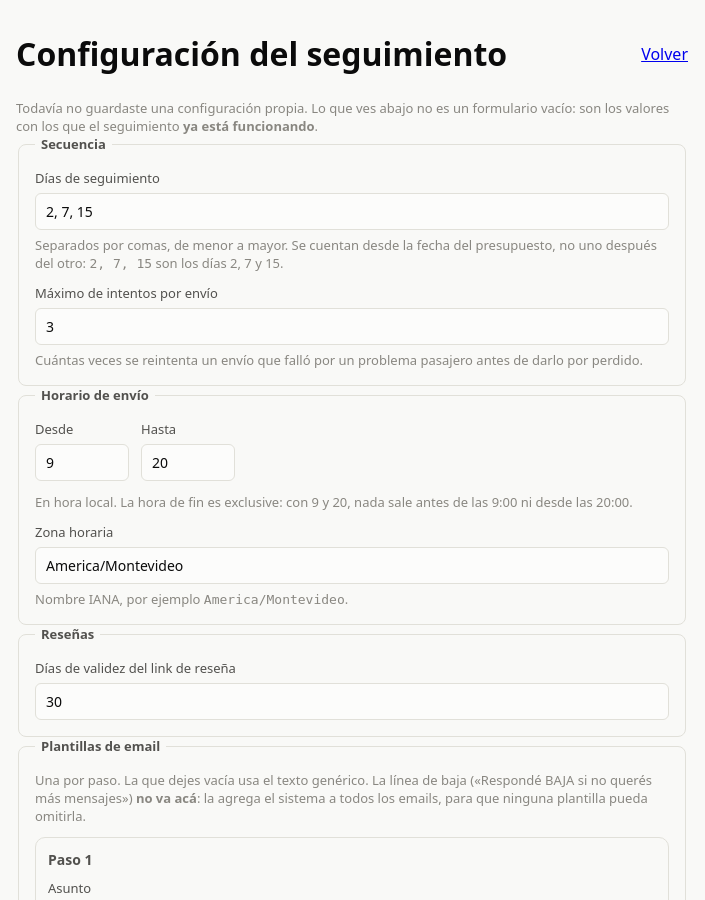
Test: ConfigSeguimientoPage › guarda y manda al backend lo que se editó
Replace the text in the field labelled "Días de seguimiento" with "1, 4" at (352, 212), box [35, 193, 669, 230]
(page scrolled)
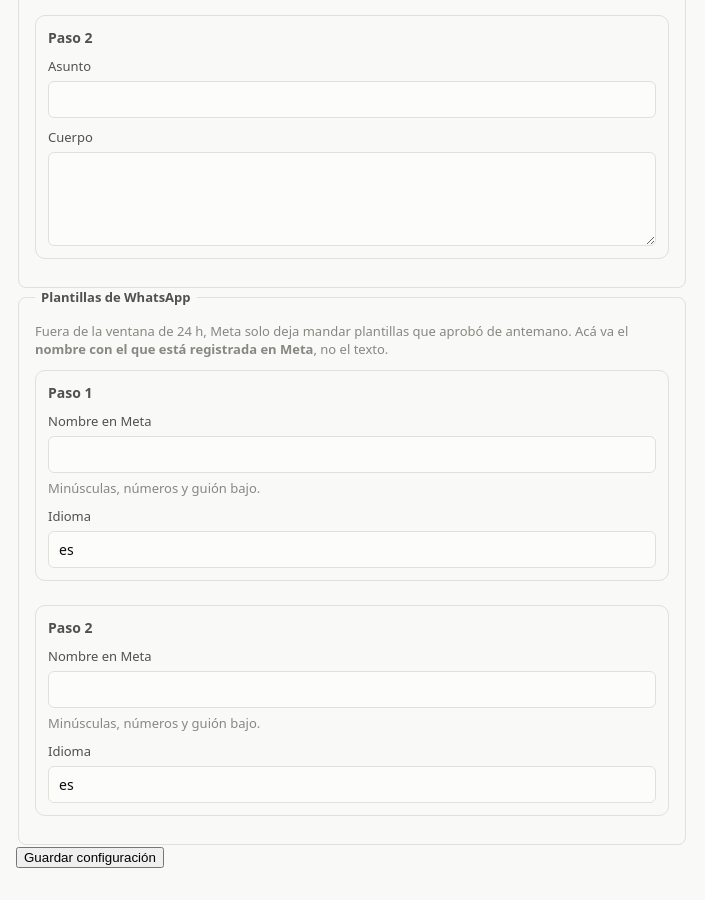
Click the button "Guardar configuración" at (90, 858), box [16, 847, 164, 868]
(page scrolled)
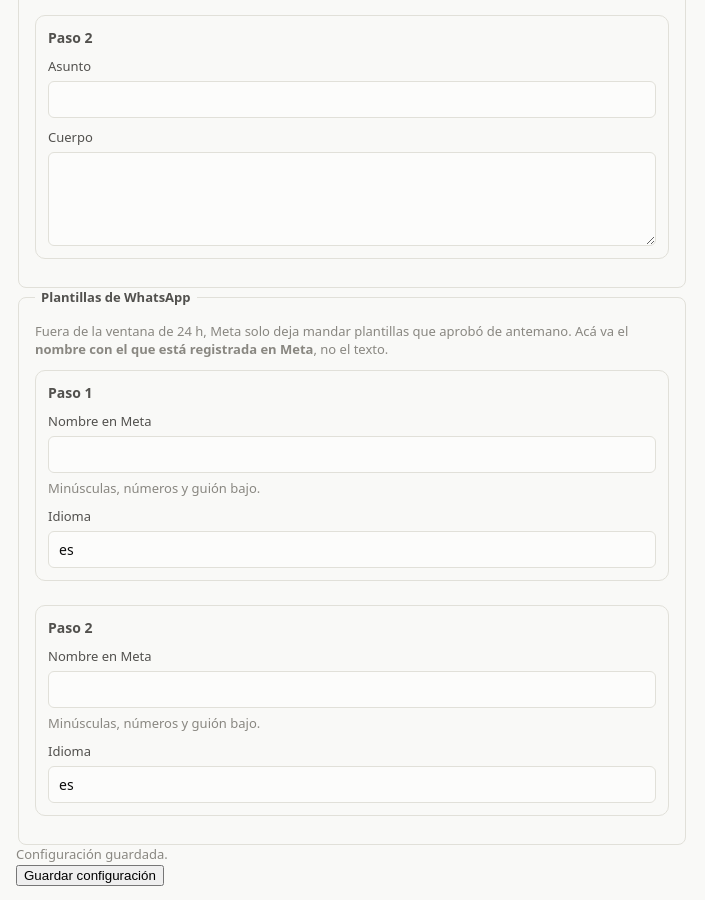
Expected: the text "Configuración guardada." is shown, [16, 845, 168, 863]
